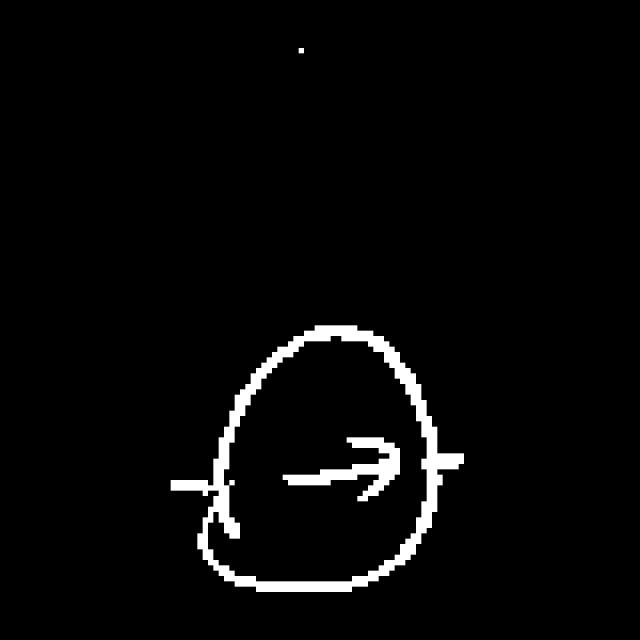current_source: (190, 316, 446, 606)
